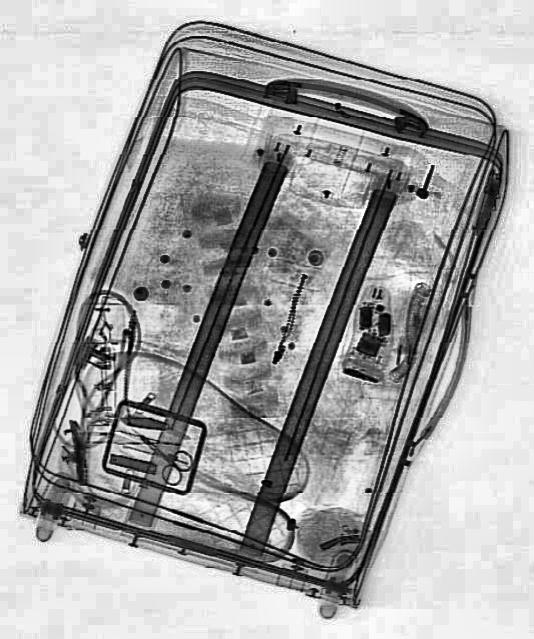Scissors: (124, 418, 196, 490)
